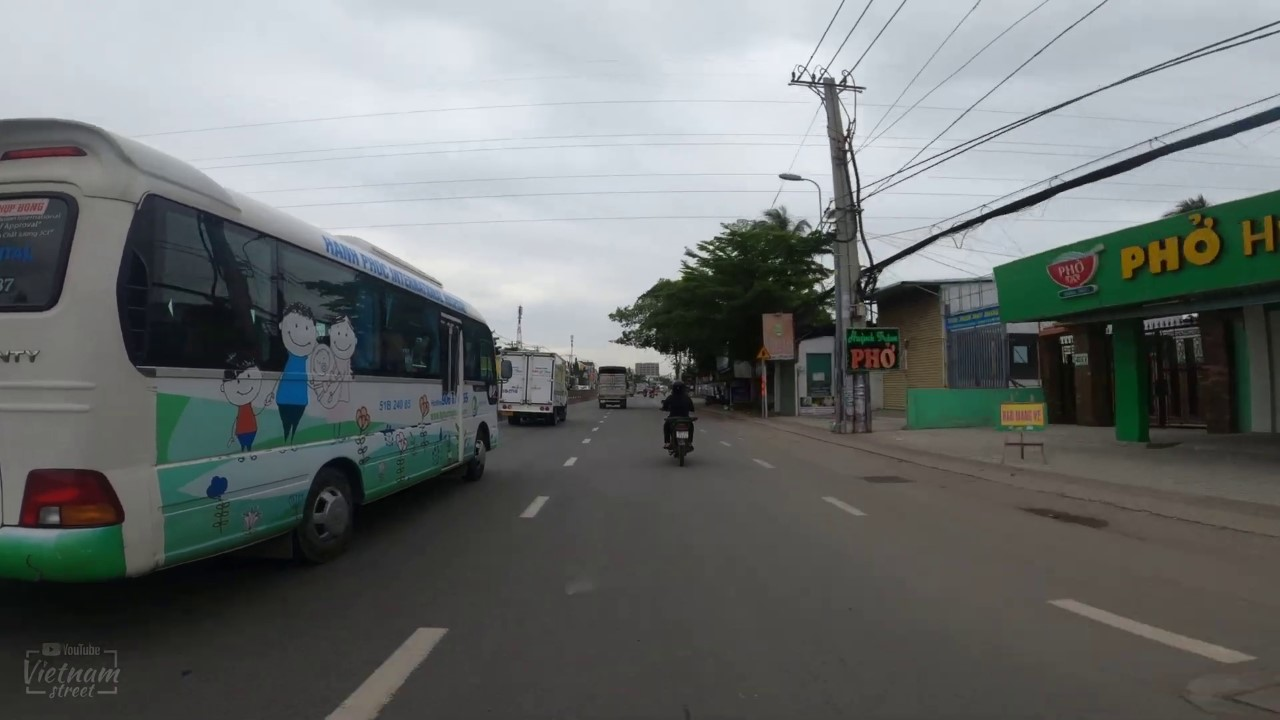giao_khong_uu_tien_phai: (756, 344, 771, 359)
